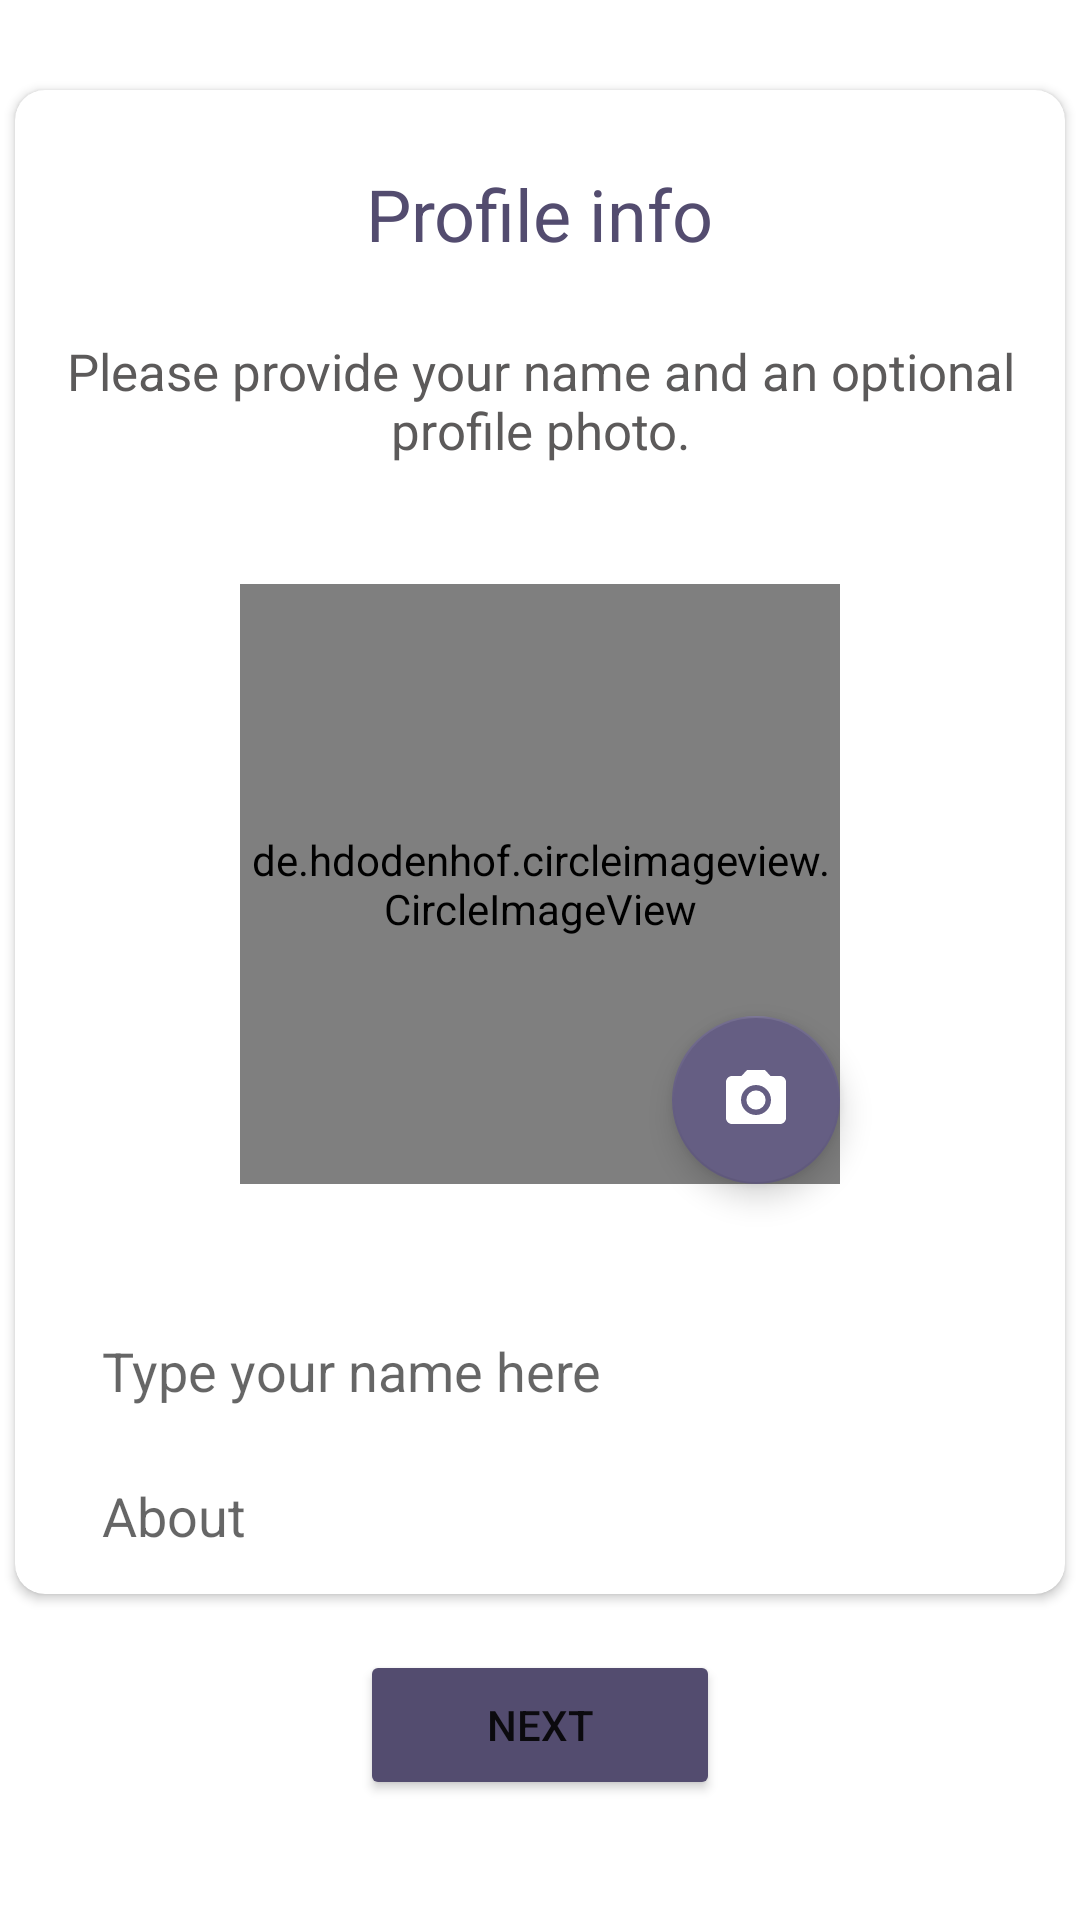

Icon bounding boxes for this 1080×1920 phone screenshot, format (x1, y1, x2, y2):
camera: (672, 1016, 840, 1184)
